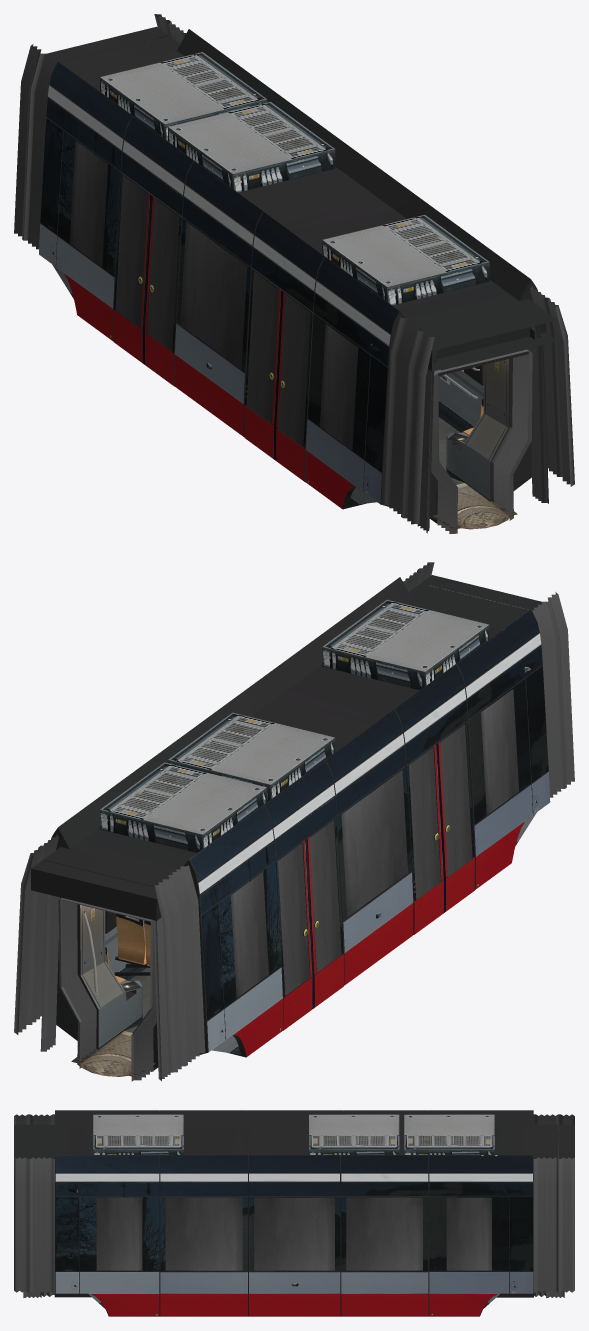
The picture shows the model from 3 angles, top to bottom: view 1: azimuth 30°, elevation 25°; view 2: azimuth 150°, elevation 25°; view 3: azimuth 270°, elevation 25°; orthographic projection. The views are drawn at different scales.
Parts seen in each view (by area): view 1: EXT, INT, STEKLO, DS_RR, DS_RL, D_RR, D_RL; view 2: EXT, INT, STEKLO, DS_RR, DS_RL, D_RL, D_RR; view 3: EXT, STEKLO.
Part boxes in pixels (x1,y1,x2,y2): EXT: [14, 14, 574, 533]; INT: [52, 264, 532, 533]; STEKLO: [70, 141, 358, 449]; DS_RR: [147, 199, 310, 447]; DS_RL: [116, 176, 278, 423]; D_RR: [144, 194, 313, 482]; D_RL: [113, 172, 282, 459]; EXT: [14, 562, 574, 1080]; INT: [58, 812, 536, 1081]; STEKLO: [231, 689, 518, 997]; DS_RR: [309, 724, 472, 972]; DS_RL: [278, 747, 440, 995]; D_RL: [275, 743, 444, 1030]; D_RR: [305, 721, 474, 1008]; EXT: [14, 1110, 574, 1316]; STEKLO: [96, 1197, 491, 1270].
Bounding box in the file's own units: 2.47 × 3.08 × 10.06.
Materials: 21 (21 with a texture image).
